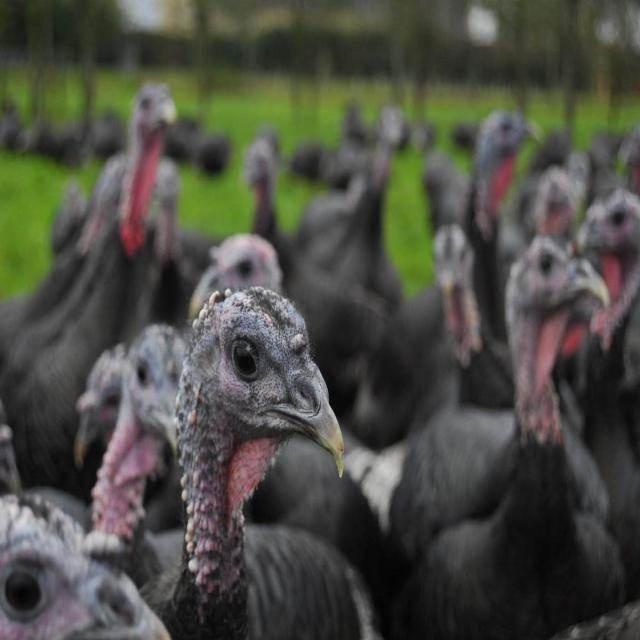Turkey: (391, 238, 614, 611), (155, 275, 368, 640), (0, 464, 162, 640)
